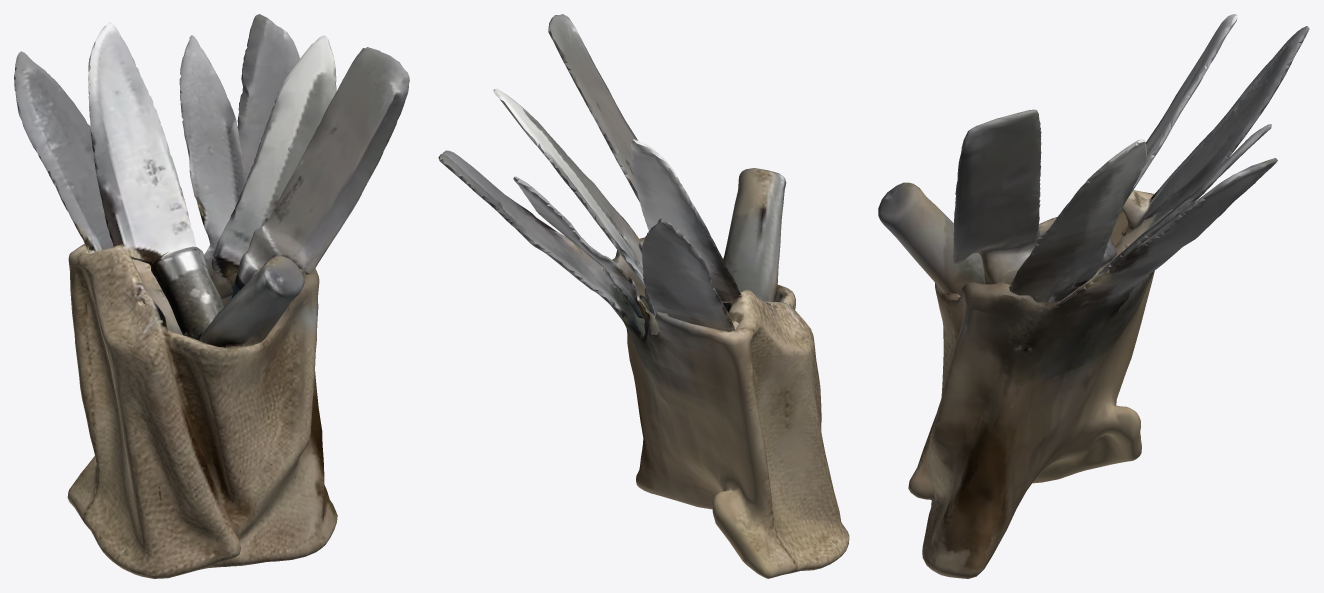
File: butcher-knife-set.glb
3 views of the same model, side by side, from view 1: azimuth 30°, elevation 25°; view 2: azimuth 150°, elevation 25°; view 3: azimuth 270°, elevation 25° (orthographic). The views are drawn at different scales.
Visible parts, largest first — view 1: cowninja-butcher-knife-set; view 2: cowninja-butcher-knife-set; view 3: cowninja-butcher-knife-set.
Part boxes in pixels (bbox=[...]): cowninja-butcher-knife-set: bbox=[14, 14, 409, 578]; cowninja-butcher-knife-set: bbox=[438, 14, 849, 578]; cowninja-butcher-knife-set: bbox=[878, 14, 1309, 578].
Size of the model in its own units: 0.3405 by 0.5276 by 0.4001.
1 material, 1 textured.
